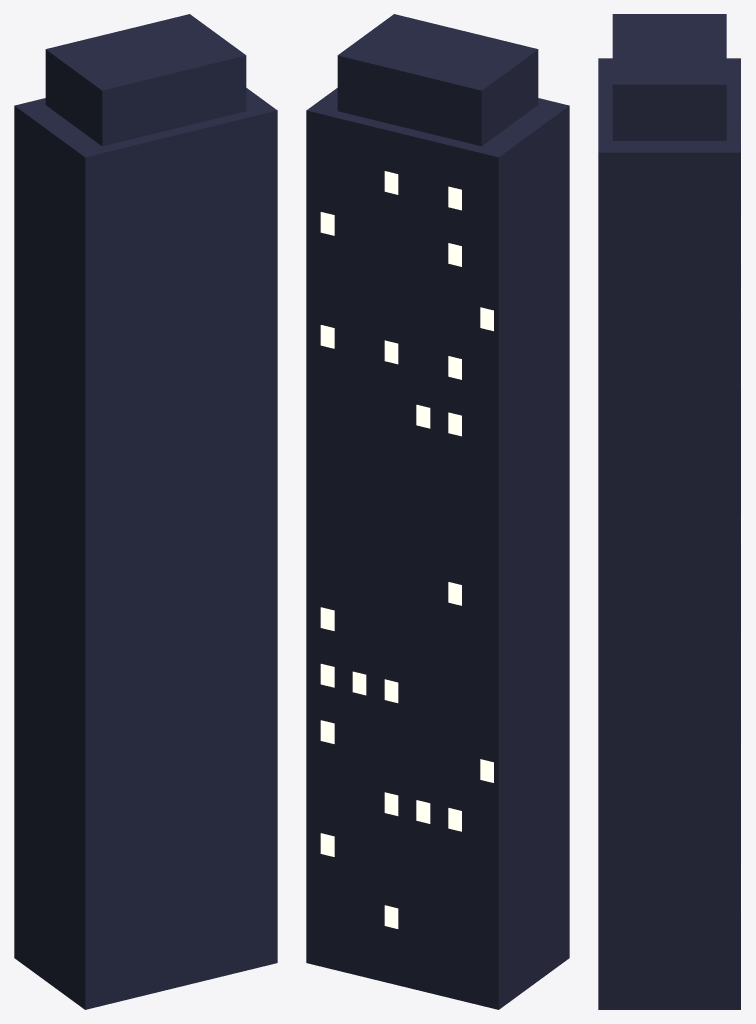
File: Tower2.fbx
3 views of the same model, side by side, from view 1: azimuth 30°, elevation 25°; view 2: azimuth 150°, elevation 25°; view 3: azimuth 270°, elevation 25° (orthographic).
Visible parts, largest first — view 1: Tower; view 2: Tower, Windows; view 3: Tower, Windows.
Part boxes in pixels (left/top/right/bottom): Tower: left=14, top=14, right=277, bottom=1009; Tower: left=306, top=14, right=569, bottom=1009; Windows: left=320, top=171, right=493, bottom=928; Tower: left=598, top=14, right=740, bottom=1009; Windows: left=741, top=117, right=741, bottom=914.
Size of the model in its own units: 7.84 by 35.38 by 5.02.
